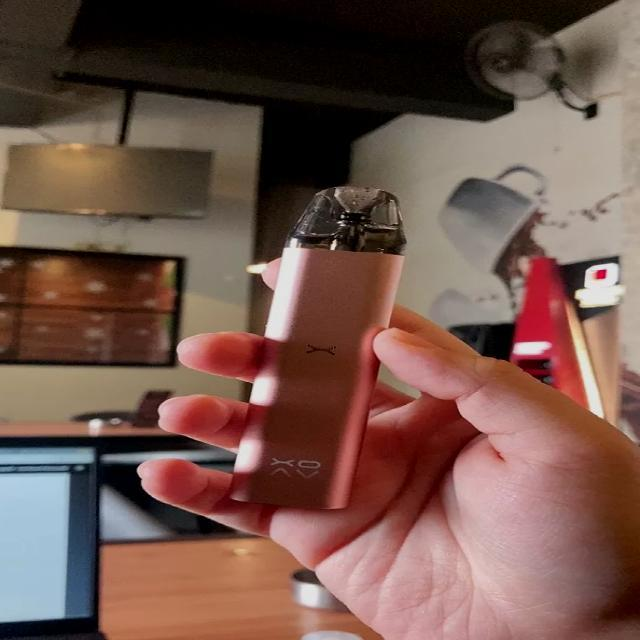Hazard: (222, 184, 413, 510)
